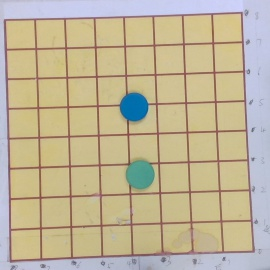blue: (119, 92, 149, 121)
green: (126, 160, 155, 189)
